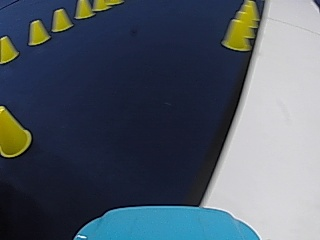cone: (0, 105, 31, 156), (220, 9, 254, 50), (227, 1, 259, 42), (27, 19, 49, 45), (0, 35, 18, 62), (51, 8, 72, 31), (75, 0, 92, 19), (93, 0, 105, 10)
